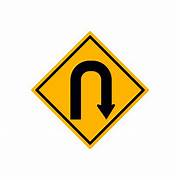back: (32, 31, 151, 148)
